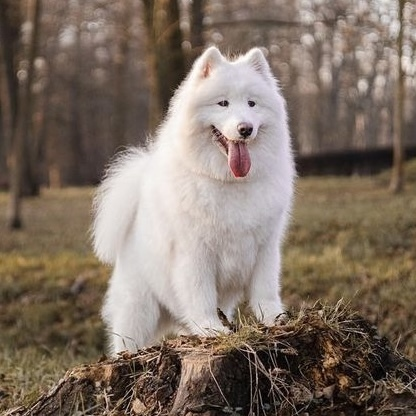samoyed: (83, 38, 304, 357)
